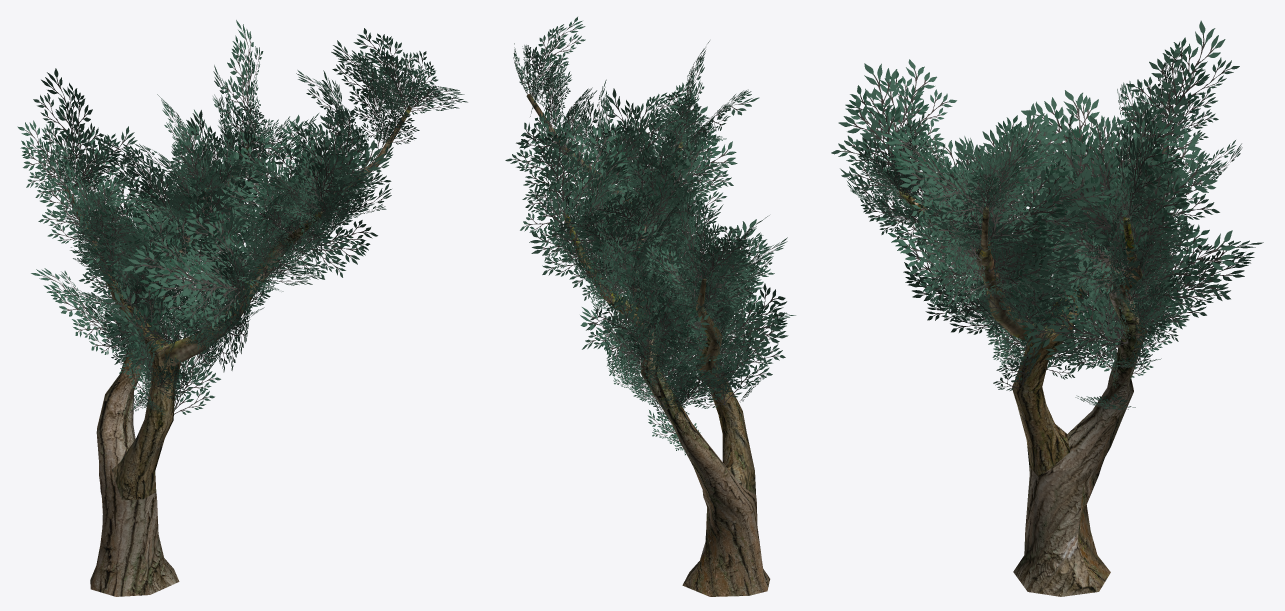
The picture shows the model from 3 angles, left to right: view 1: azimuth 30°, elevation 25°; view 2: azimuth 150°, elevation 25°; view 3: azimuth 270°, elevation 25°; orthographic projection. The views are drawn at different scales.
Visible parts, largest first — view 1: pCylinder6, pCylinder6|L3|Dupli|113, pCylinder6|L3|Dupli|176, pCylinder6|L3|Dupli|46, pCylinder6|L3|Dupli|167, pCylinder6|L3|Dupli|184, pCylinder6|L3|Dupli|111, pCylinder6|L3|Dupli|212, pCylinder6|L3|Dupli|119, pCylinder6|L3|Dupli|174, pCylinder6|L3|Dupli|177, pCylinder6|L3|Dupli|10 (+56 smaller); view 2: pCylinder6, pCylinder6|L3|Dupli|111, pCylinder6|L3|Dupli|90, pCylinder6|L3|Dupli|58, pCylinder6|L3|Dupli|108, pCylinder6|L3|Dupli|46, pCylinder6|L3|Dupli|160, pCylinder6|L3|Dupli|92, pCylinder6|L3|Dupli|174, pCylinder6|L3|Dupli|154, pCylinder6|L3|Dupli|180, pCylinder6|L3|Dupli|5 (+62 smaller); view 3: pCylinder6, pCylinder6|L3|Dupli|176, pCylinder6|L3|Dupli|167, pCylinder6|L3|Dupli|90, pCylinder6|L3|Dupli|17, pCylinder6|L3|Dupli|160, pCylinder6|L3|Dupli|111, pCylinder6|L3|Dupli|87, pCylinder6|L3|Dupli|58, pCylinder6|L3|Dupli|55, pCylinder6|L3|Dupli|180, pCylinder6|L3|Dupli|171 (+48 smaller).
Boxes of the visible parts, <box> form: pCylinder6: <box>64,105,411,596</box>; pCylinder6|L3|Dupli|113: <box>123,234,244,328</box>; pCylinder6|L3|Dupli|176: <box>33,68,103,190</box>; pCylinder6|L3|Dupli|46: <box>103,281,186,369</box>; pCylinder6|L3|Dupli|167: <box>290,121,356,219</box>; pCylinder6|L3|Dupli|184: <box>331,40,396,139</box>; pCylinder6|L3|Dupli|111: <box>220,20,263,136</box>; pCylinder6|L3|Dupli|212: <box>287,209,377,279</box>; pCylinder6|L3|Dupli|119: <box>184,185,255,286</box>; pCylinder6|L3|Dupli|174: <box>17,120,73,199</box>; pCylinder6|L3|Dupli|177: <box>58,126,138,190</box>; pCylinder6|L3|Dupli|10: <box>31,268,122,354</box>; pCylinder6: <box>526,94,770,596</box>; pCylinder6|L3|Dupli|111: <box>505,128,600,214</box>; pCylinder6|L3|Dupli|90: <box>520,179,596,269</box>; pCylinder6|L3|Dupli|58: <box>582,294,666,374</box>; pCylinder6|L3|Dupli|108: <box>549,123,633,214</box>; pCylinder6|L3|Dupli|46: <box>694,281,785,372</box>; pCylinder6|L3|Dupli|160: <box>519,107,594,190</box>; pCylinder6|L3|Dupli|92: <box>554,213,647,273</box>; pCylinder6|L3|Dupli|174: <box>688,225,753,281</box>; pCylinder6|L3|Dupli|154: <box>654,139,737,214</box>; pCylinder6|L3|Dupli|180: <box>519,17,585,96</box>; pCylinder6|L3|Dupli|5: <box>708,301,788,389</box>; pCylinder6: <box>898,145,1168,596</box>; pCylinder6|L3|Dupli|176: <box>1122,20,1239,149</box>; pCylinder6|L3|Dupli|167: <box>831,63,938,193</box>; pCylinder6|L3|Dupli|90: <box>1110,151,1219,264</box>; pCylinder6|L3|Dupli|17: <box>1019,275,1128,373</box>; pCylinder6|L3|Dupli|160: <box>982,165,1099,263</box>; pCylinder6|L3|Dupli|111: <box>1115,102,1186,226</box>; pCylinder6|L3|Dupli|87: <box>1042,139,1155,255</box>; pCylinder6|L3|Dupli|58: <box>1135,223,1237,337</box>; pCylinder6|L3|Dupli|55: <box>1131,240,1263,323</box>; pCylinder6|L3|Dupli|180: <box>884,133,983,220</box>; pCylinder6|L3|Dupli|171: <box>851,59,956,186</box>.
Size of the model in its own units: 7345 by 10204 by 6922.
